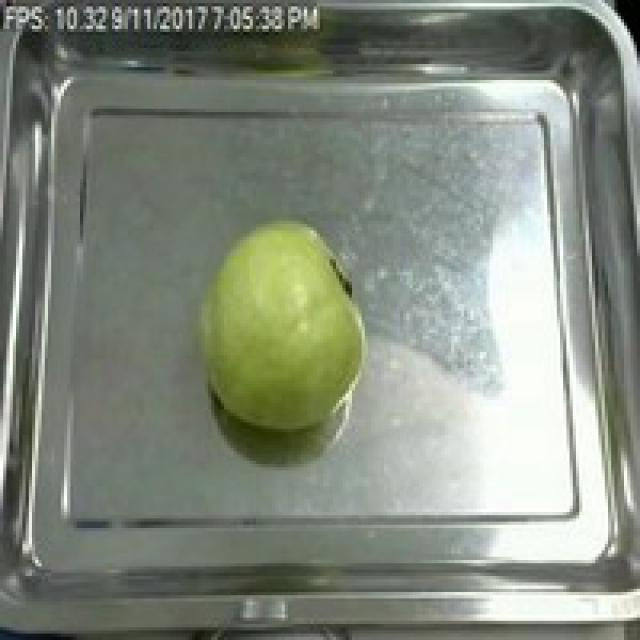Fruit: (192, 212, 378, 438)
